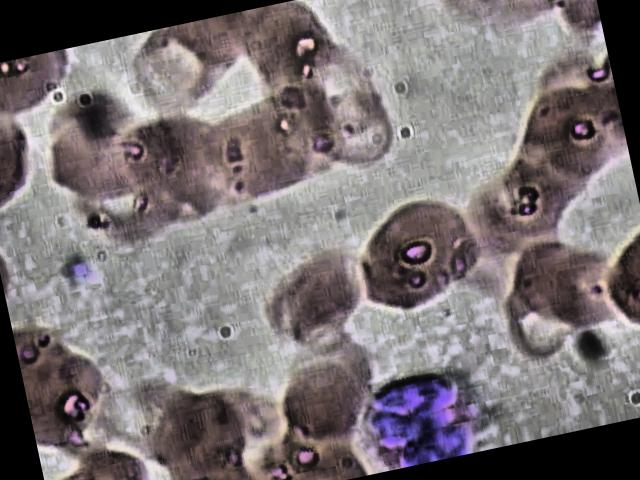Platelets: (44, 246, 104, 300)
RBC: (336, 190, 490, 330), (248, 239, 380, 364), (265, 338, 397, 463), (109, 100, 241, 225), (30, 97, 162, 222), (186, 98, 318, 219), (507, 78, 633, 196), (220, 0, 345, 106), (111, 17, 232, 126), (135, 379, 260, 480), (18, 339, 122, 460), (529, 238, 634, 345), (484, 228, 589, 335), (487, 146, 592, 253), (502, 122, 607, 229), (455, 170, 560, 276), (308, 80, 401, 182), (293, 29, 386, 130), (170, 6, 278, 88), (431, 0, 583, 51), (0, 49, 77, 133), (45, 429, 166, 480)
WBC: (343, 358, 500, 476)
